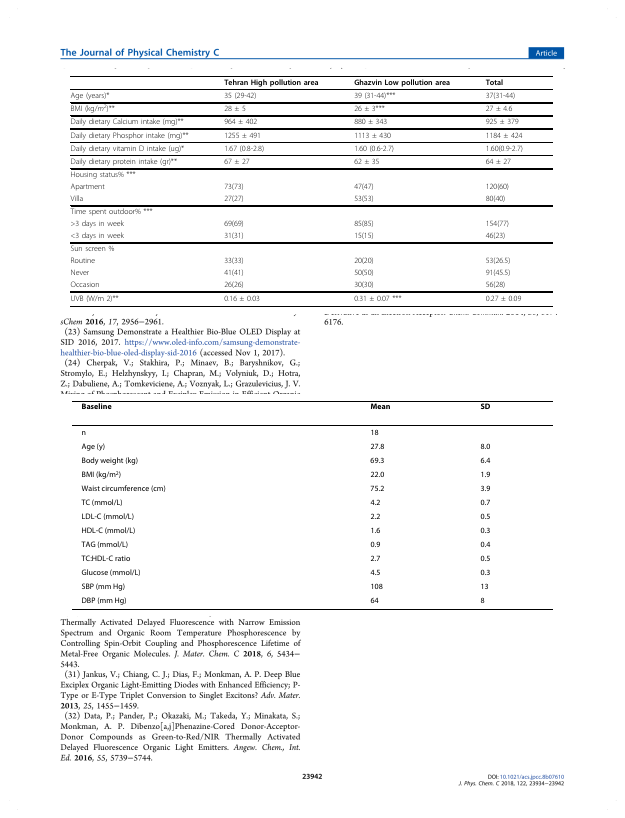borderless: (69, 74, 553, 306), (71, 399, 553, 609)
cell: (70, 131, 190, 140), (70, 157, 178, 167), (70, 118, 185, 127), (70, 144, 185, 153), (353, 78, 451, 87), (223, 78, 319, 87), (81, 484, 167, 494), (70, 208, 153, 217), (70, 170, 136, 180), (81, 568, 142, 578), (81, 456, 139, 466), (70, 231, 125, 241), (81, 526, 136, 536), (81, 512, 135, 522), (69, 103, 116, 114), (81, 554, 131, 564), (70, 220, 125, 229), (81, 540, 129, 550), (81, 596, 127, 606), (81, 582, 126, 592), (70, 294, 119, 303), (353, 294, 402, 303), (353, 91, 396, 101), (81, 498, 123, 508), (69, 91, 110, 101), (81, 470, 122, 480), (70, 245, 115, 254), (223, 144, 265, 153), (353, 144, 395, 153), (70, 182, 106, 192), (223, 131, 262, 140), (353, 131, 392, 140), (485, 144, 524, 153), (485, 131, 523, 140), (223, 294, 261, 303), (223, 91, 257, 101), (485, 294, 522, 303), (353, 104, 386, 114), (223, 118, 258, 127), (353, 118, 388, 127), (485, 118, 520, 127), (485, 91, 516, 101), (485, 104, 513, 114), (223, 157, 250, 167), (353, 157, 380, 167), (485, 157, 512, 167), (70, 281, 100, 290), (81, 402, 113, 410), (485, 182, 510, 192), (81, 442, 106, 452), (223, 104, 247, 114), (70, 257, 96, 266), (485, 257, 511, 266), (485, 269, 511, 278), (485, 220, 510, 229), (223, 182, 245, 192), (223, 194, 245, 204), (223, 231, 245, 241), (353, 182, 374, 192), (353, 194, 374, 204), (485, 194, 506, 204), (353, 231, 374, 241), (485, 231, 506, 241), (223, 220, 245, 229), (223, 257, 245, 266), (223, 269, 245, 278), (223, 281, 245, 290), (353, 220, 374, 229), (353, 257, 374, 266), (353, 269, 374, 278), (353, 281, 374, 290), (485, 281, 506, 290), (70, 269, 90, 278), (369, 402, 391, 410), (485, 78, 504, 87), (369, 442, 385, 452), (369, 456, 385, 466), (369, 470, 385, 480), (369, 484, 385, 494), (369, 582, 384, 592), (70, 194, 84, 204), (479, 442, 491, 452), (479, 456, 491, 466), (479, 470, 491, 480), (479, 484, 491, 494), (369, 498, 381, 508), (479, 498, 491, 508), (369, 512, 381, 522), (479, 512, 491, 522), (369, 526, 381, 536), (479, 526, 491, 536), (369, 540, 381, 550), (479, 540, 491, 550), (369, 554, 381, 564), (479, 554, 491, 564), (369, 568, 381, 578), (369, 428, 380, 438), (480, 568, 491, 578), (479, 582, 490, 592), (369, 596, 380, 606), (479, 402, 491, 410), (479, 596, 486, 606), (81, 428, 87, 438)
